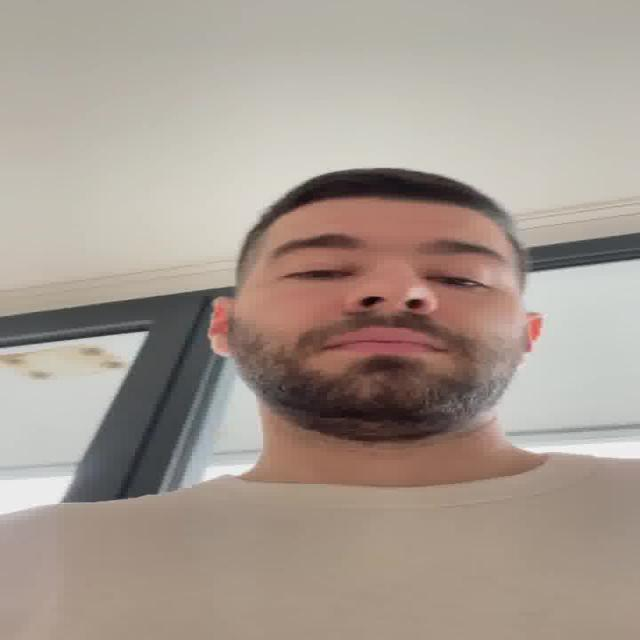earlobe: (209, 339, 237, 359)
eye: (428, 272, 492, 292), (284, 266, 358, 283)
nose: (343, 303, 436, 328)
wholeear: (209, 296, 237, 360), (522, 309, 546, 355)
